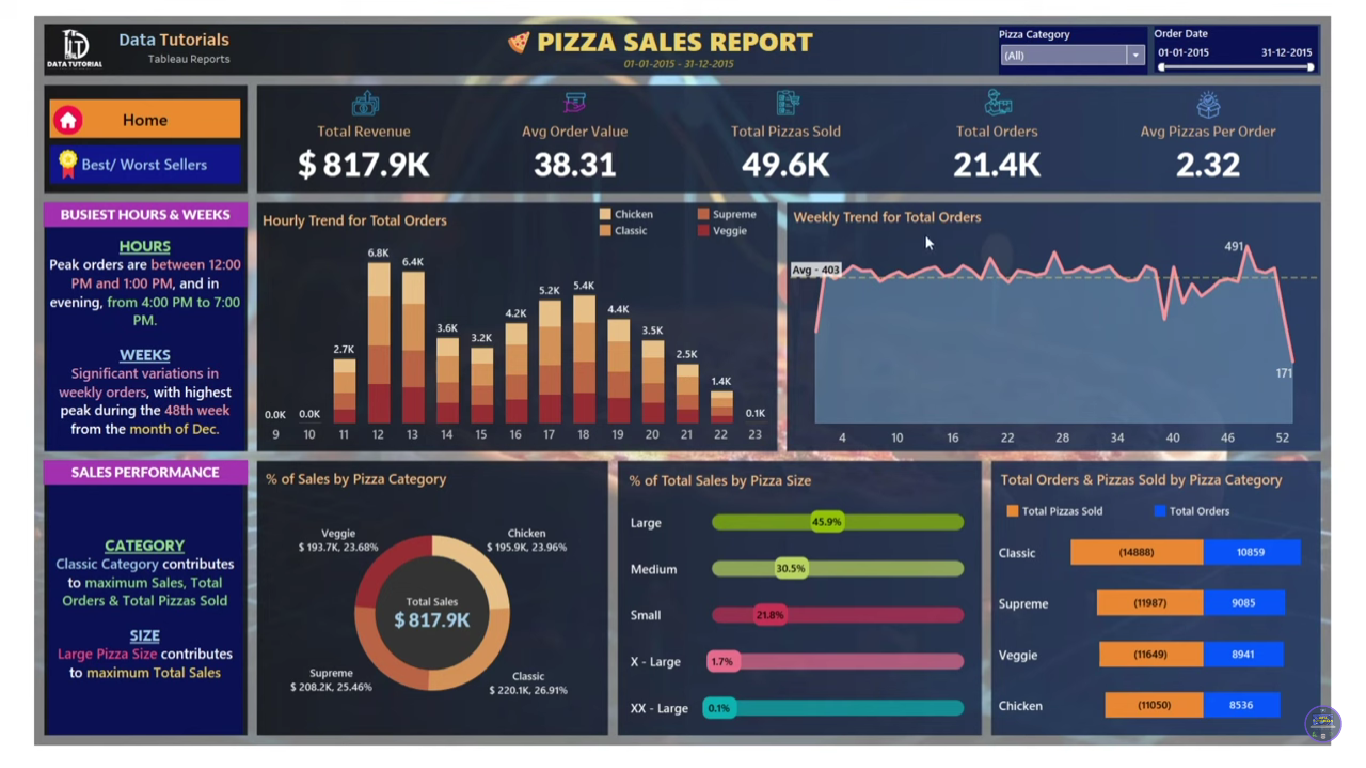

This screenshot's page, from the dashboard's own definition file:
{"tool":"tableau","page":{"name":"Home","canvas":[1600,900],"ordinal":1},"visuals":[{"type":"image","param":"Image/Pizza Tableau 1.jpg","box":[8,8,1584,884]},{"type":"text","box":[452,20,221,43]},{"type":"filter","title":"Hourly Trend for Total Pizza sold","param":"[federated.1edhx0b1gj70c01gmr46z0ugq7be].[none:pizza_category:nk]","box":[31,21,200,61]},{"type":"filter","title":"Hourly Trend for Total Pizza sold","param":"[federated.1edhx0b1gj70c01gmr46z0ugq7be].[none:order_date:qk]","box":[1330,22,236,61]},{"type":"image","param":"Image/pizza-slice.png","box":[405,25,43,27]},{"type":"worksheet","title":"Date Range","mark":"Automatic","box":[350,47,379,41]},{"type":"image","param":"Image/delivery-man.png","box":[1153,95,54,42]},{"type":"image","param":"Image/shipping-box.png","box":[642,96,49,43]},{"type":"image","param":"Image/order-delivery.png","box":[900,96,45,43]},{"type":"image","param":"Image/profit-growth.png","box":[387,97,55,40]},{"type":"image","param":"Image/order (1).png","box":[1409,97,41,42]},{"type":"dashboard-object","box":[36,103,235,52]},{"type":"worksheet","title":"KPI Banner","mark":"Automatic","box":[288,137,1278,89]},{"type":"dashboard-object","box":[36,164,231,52]},{"type":"legend","title":"Hourly Trend for Total Pizza sold","param":"[federated.1edhx0b1gj70c01gmr46z0ugq7be].[none:pizza_category:nk]","box":[823,234,112,93]},{"type":"text","box":[33,235,244,32]},{"type":"worksheet","title":"Weekly Trend for Total Pizza sold","mark":"Area","rows":["Calculation_876513114218151937","Calculation_876513114218151937"],"cols":["order_date"],"box":[925,236,640,298]},{"type":"worksheet","title":"Hourly Trend for Total Pizza sold","mark":"Bar","rows":["Calculation_876513114219102211","Calculation_876513114219102211"],"cols":["order_time"],"box":[290,238,622,297]},{"type":"text","box":[32,268,244,266]},{"type":"worksheet","title":"Percentage of sales by pizza size","mark":"Line","rows":["pizza_size"],"box":[720,545,439,331]},{"type":"text","box":[33,546,244,38]},{"type":"worksheet","title":"Percentage of sales by pizza category","mark":"Pie","rows":["Calculation_876513114314162182","Calculation_876513114314260489"],"box":[290,546,417,329]},{"type":"text","box":[1171,547,400,30]},{"type":"text","box":[33,583,244,292]},{"type":"legend","title":"Total order & pizza sold by pizza category","param":"[federated.1edhx0b1gj70c01gmr46z0ugq7be].[:Measure Names]","box":[1170,587,394,31]},{"type":"worksheet","title":"Total order & pizza sold by pizza category","mark":"Automatic","rows":["pizza_category"],"box":[1170,619,397,256]}]}

Visuals, with their boxes in screenshot pixels (x1, y1, x2, y2), scaled from the page's 1600x900 canvas onto the 1366x768 screenshot:
image: <region>7, 7, 1359, 761</region>
text: <region>386, 17, 575, 54</region>
"Hourly Trend for Total Pizza sold" filter: <region>26, 18, 197, 70</region>
"Hourly Trend for Total Pizza sold" filter: <region>1135, 19, 1337, 71</region>
image: <region>346, 21, 382, 44</region>
"Date Range" worksheet: <region>299, 40, 622, 75</region>
image: <region>984, 81, 1030, 117</region>
image: <region>548, 82, 590, 119</region>
image: <region>768, 82, 807, 119</region>
image: <region>330, 83, 377, 117</region>
image: <region>1203, 83, 1238, 119</region>
dashboard-object: <region>31, 88, 231, 132</region>
"KPI Banner" worksheet: <region>246, 117, 1337, 193</region>
dashboard-object: <region>31, 140, 228, 184</region>
"Hourly Trend for Total Pizza sold" legend: <region>703, 200, 798, 279</region>
text: <region>28, 201, 236, 228</region>
"Weekly Trend for Total Pizza sold" worksheet (Area marks): <region>790, 201, 1336, 456</region>
"Hourly Trend for Total Pizza sold" worksheet (Bar marks): <region>248, 203, 779, 457</region>
text: <region>27, 229, 236, 456</region>
"Percentage of sales by pizza size" worksheet (Line marks): <region>615, 465, 989, 748</region>
text: <region>28, 466, 236, 498</region>
"Percentage of sales by pizza category" worksheet (Pie marks): <region>248, 466, 604, 747</region>
text: <region>1000, 467, 1341, 492</region>
text: <region>28, 497, 236, 747</region>
"Total order & pizza sold by pizza category" legend: <region>999, 501, 1335, 527</region>
"Total order & pizza sold by pizza category" worksheet: <region>999, 528, 1338, 747</region>
